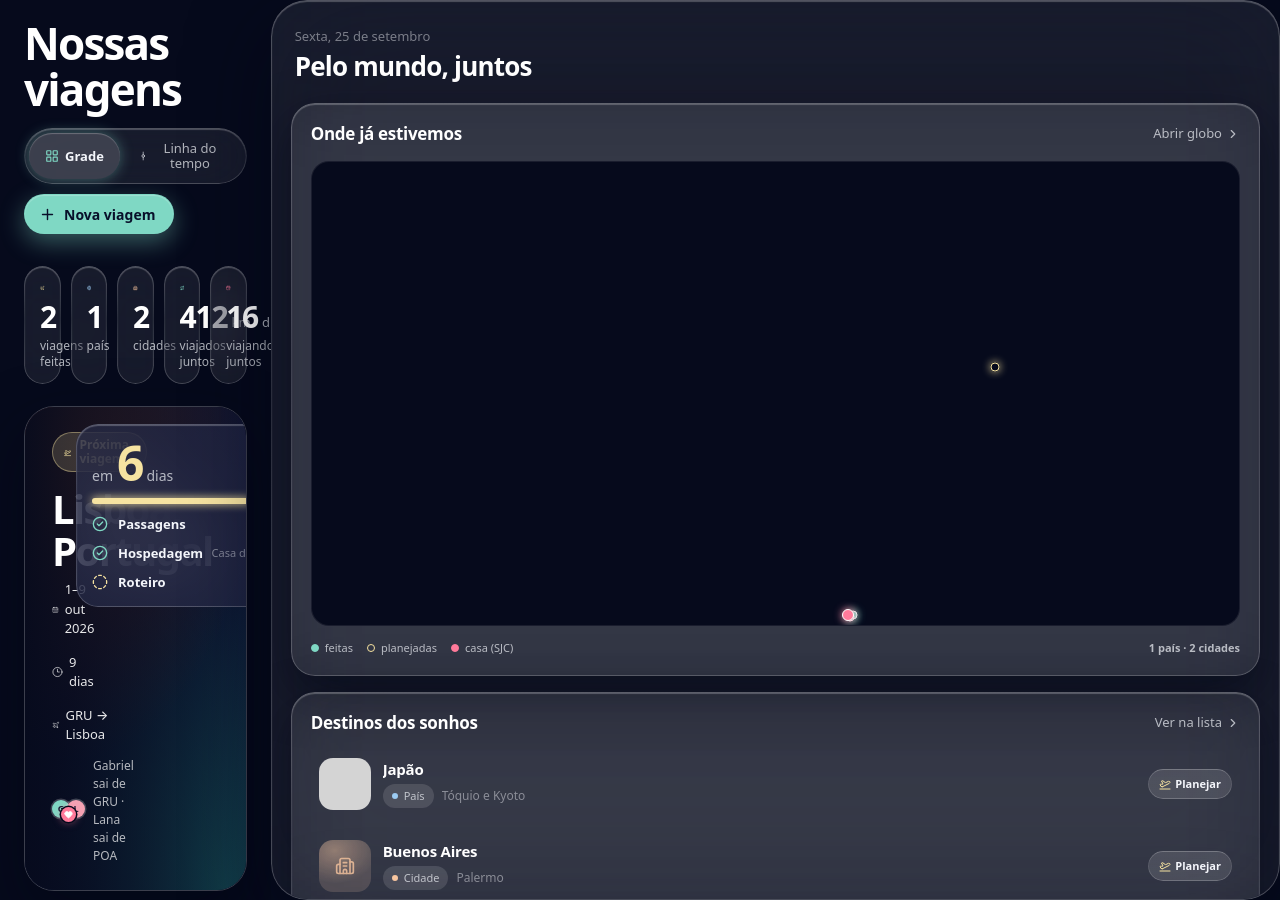
A10 — cabeçalho e números (R3, R4) › Nova viagem abre o modal
Click the button "Nova viagem" at (99, 214), box [24,194,174,234]
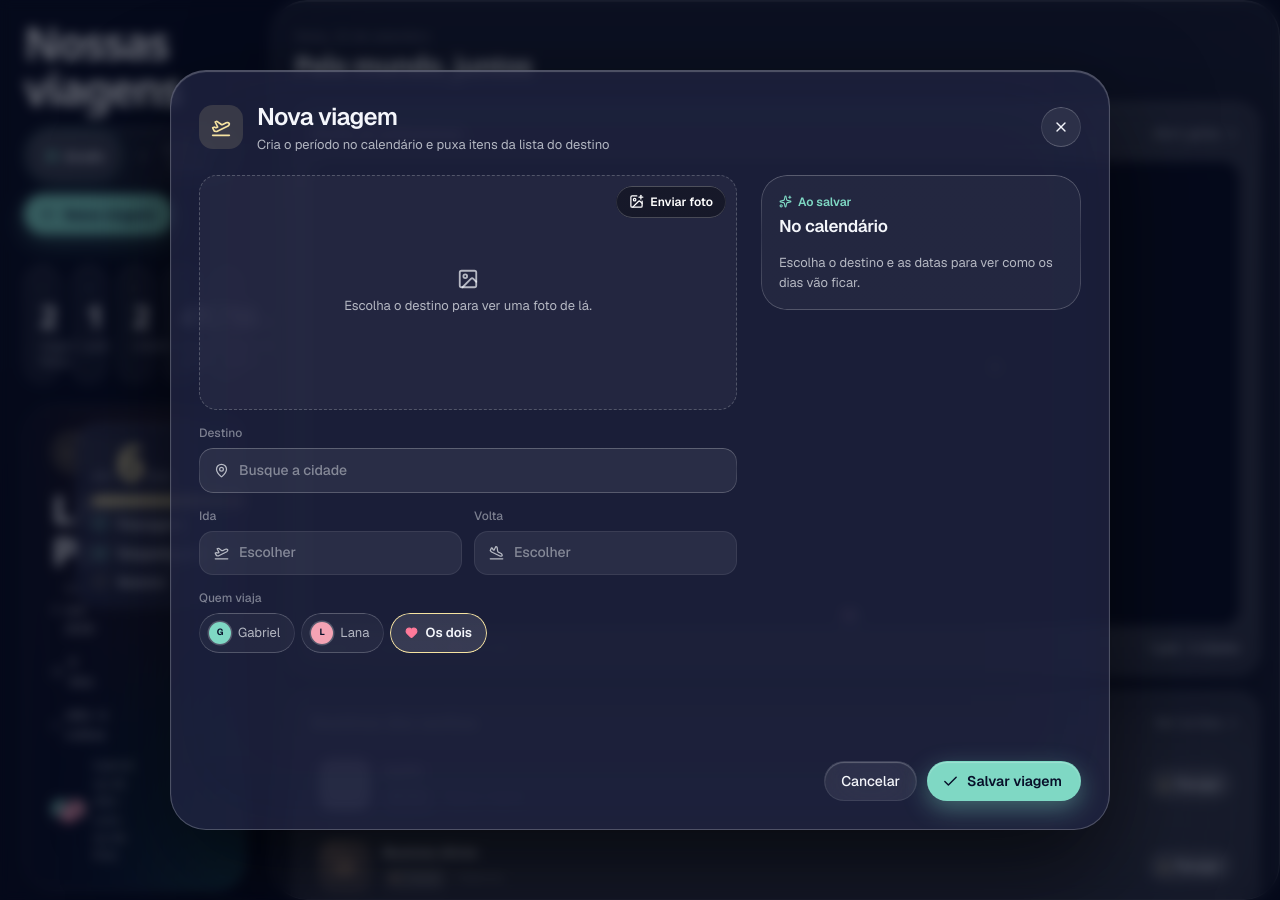
Expected: the dialog "Nova viagem" is shown
